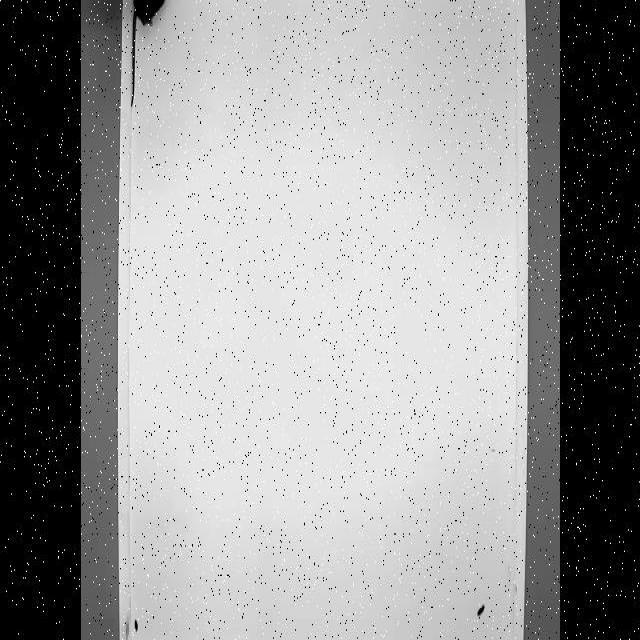rat: (128, 4, 166, 106)
